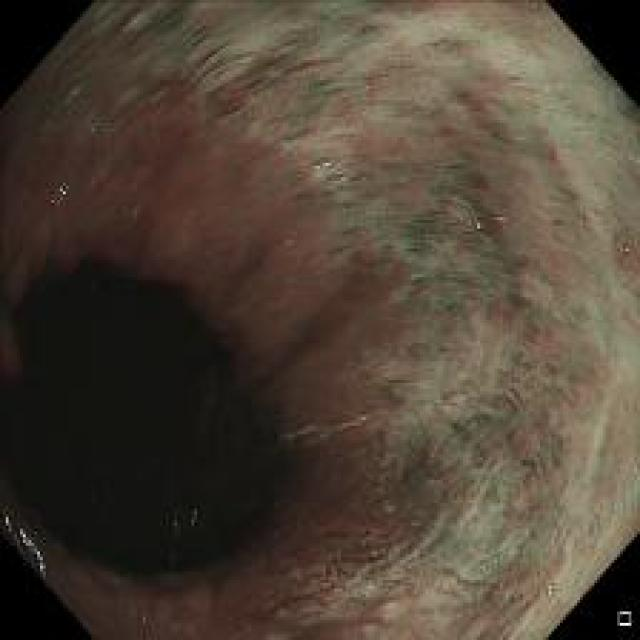blur: (88, 28, 608, 556)
color misalignment: (4, 510, 59, 585), (45, 181, 76, 214), (618, 238, 631, 268), (466, 216, 486, 234), (489, 211, 509, 225), (188, 506, 200, 529), (314, 159, 332, 172)
contrast: (25, 251, 302, 600)
